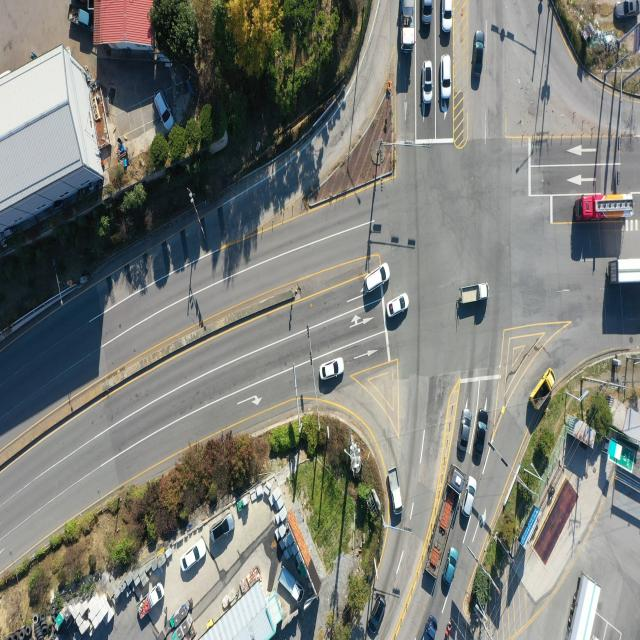car: (180, 535, 208, 573), (367, 594, 387, 639), (364, 263, 389, 295), (156, 90, 175, 131), (473, 412, 486, 467), (441, 546, 458, 588), (212, 517, 235, 546), (462, 476, 477, 518), (473, 30, 485, 82), (442, 53, 454, 99), (459, 409, 471, 455), (321, 358, 346, 380), (386, 293, 408, 318), (422, 61, 434, 106), (614, 0, 640, 19), (422, 0, 434, 30), (443, 0, 454, 32)
medium_truck: (426, 467, 464, 583), (564, 576, 601, 640), (578, 196, 636, 222), (610, 259, 640, 286), (402, 0, 418, 50)
small_truck: (529, 367, 555, 411), (137, 582, 166, 620), (279, 568, 302, 604), (386, 467, 402, 514), (68, 2, 90, 30), (463, 283, 491, 304), (424, 613, 438, 640)
